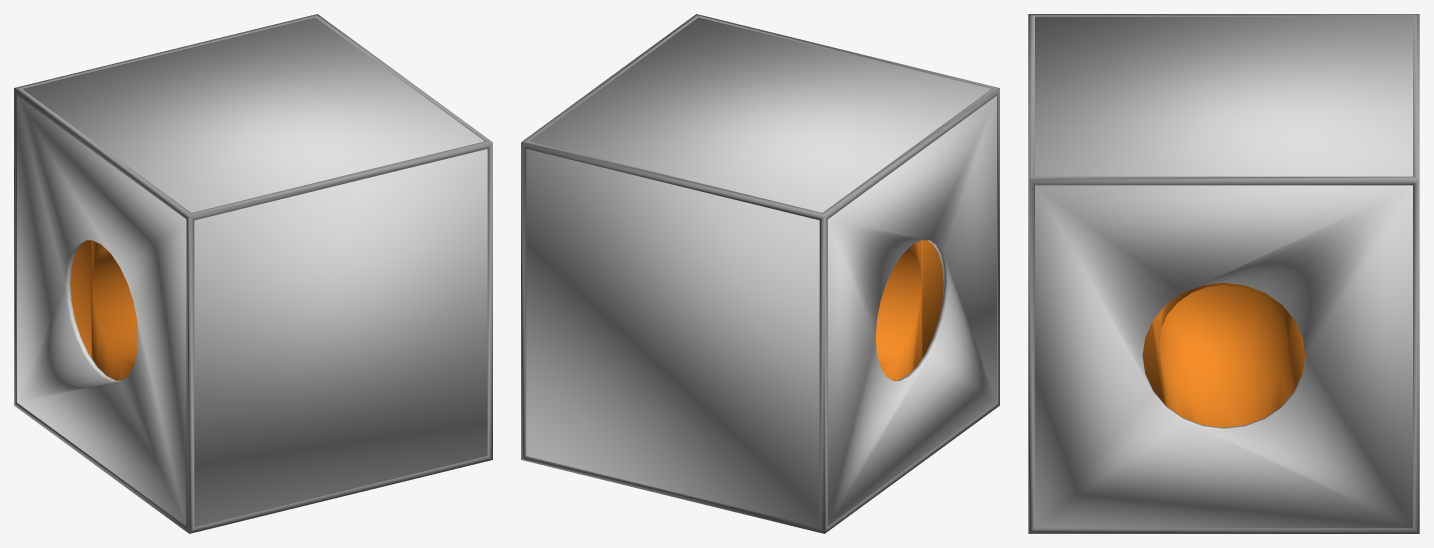
Rendered from pump_orange.dae.
3 views of the same model, side by side, from view 1: azimuth 30°, elevation 25°; view 2: azimuth 150°, elevation 25°; view 3: azimuth 270°, elevation 25° (orthographic). The views are drawn at different scales.
Parts seen in each view (by area): view 1: pump_enclosure; view 2: pump_enclosure; view 3: pump_enclosure.
Boxes of the visible parts, box(x1,y1,x2,y2) form: pump_enclosure: box(14, 14, 492, 533); pump_enclosure: box(521, 14, 999, 533); pump_enclosure: box(1028, 14, 1419, 533).
Size of the model in its own units: 0.12 by 0.12 by 0.12.
